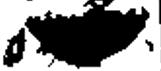Basket: (3, 6, 148, 70)
